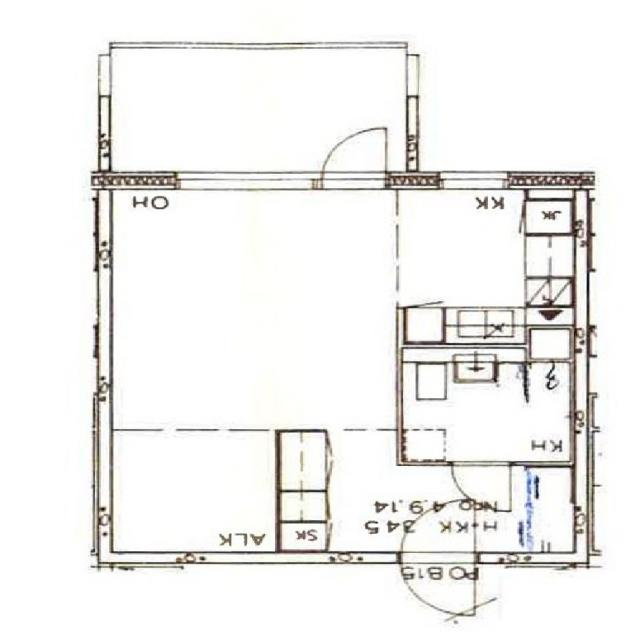door: (401, 552, 474, 620), (401, 496, 474, 564), (321, 123, 386, 191), (452, 463, 510, 513)
